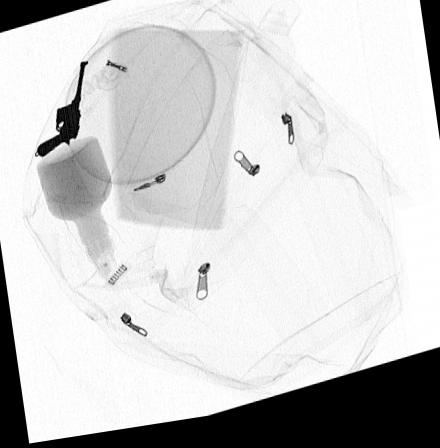Gun: (35, 61, 91, 160)
